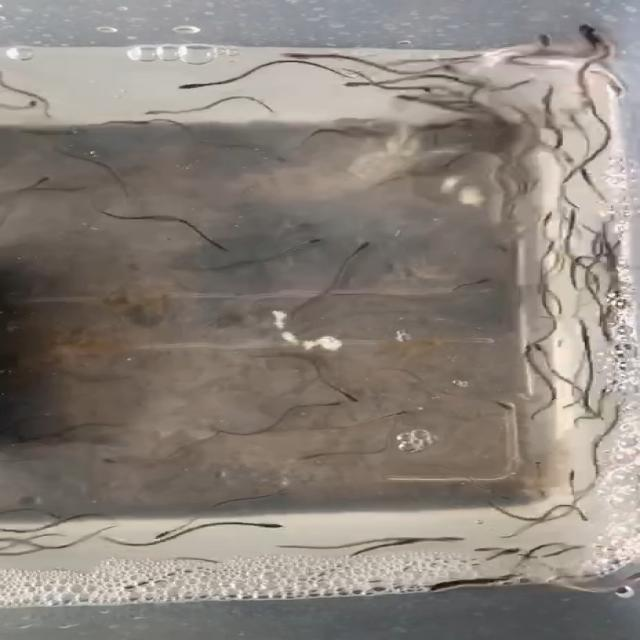inactive_glass_eel: (282, 233, 328, 265), (161, 71, 213, 99), (566, 22, 614, 52), (376, 398, 420, 429), (328, 70, 380, 94), (560, 504, 616, 526), (272, 48, 332, 68), (306, 397, 354, 420), (202, 232, 248, 254), (448, 276, 494, 298), (587, 74, 629, 98), (474, 400, 528, 418), (412, 531, 472, 547), (528, 205, 564, 231), (502, 340, 536, 366), (529, 334, 561, 360), (565, 157, 593, 185), (570, 318, 594, 346), (524, 34, 554, 54), (532, 94, 558, 116), (558, 205, 580, 231), (564, 110, 592, 130), (337, 383, 365, 403), (476, 544, 516, 558), (355, 238, 380, 260), (23, 174, 57, 190), (258, 519, 296, 533), (564, 466, 588, 484), (138, 107, 172, 118), (495, 545, 525, 557)
